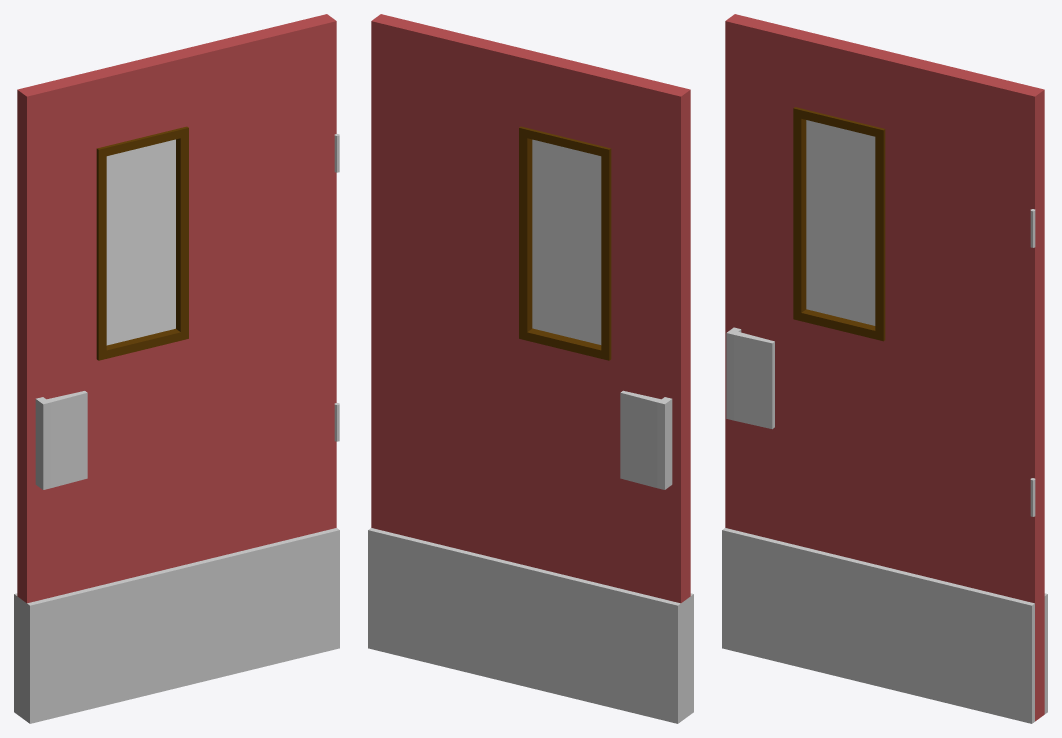
File: H_Door_Double_2.fbx
The picture shows the model from 3 angles, left to right: view 1: azimuth 30°, elevation 25°; view 2: azimuth 150°, elevation 25°; view 3: azimuth 330°, elevation 25°; orthographic projection.
Visible parts, largest first — view 1: H_Door_Double_2; view 2: H_Door_Double_2; view 3: H_Door_Double_2.
Part boxes in pixels (left/top/right/bottom): H_Door_Double_2: left=14, top=14, right=339, bottom=723; H_Door_Double_2: left=368, top=14, right=693, bottom=723; H_Door_Double_2: left=722, top=14, right=1047, bottom=723.
Size of the model in its own units: 661 by 1268 by 91.14.
